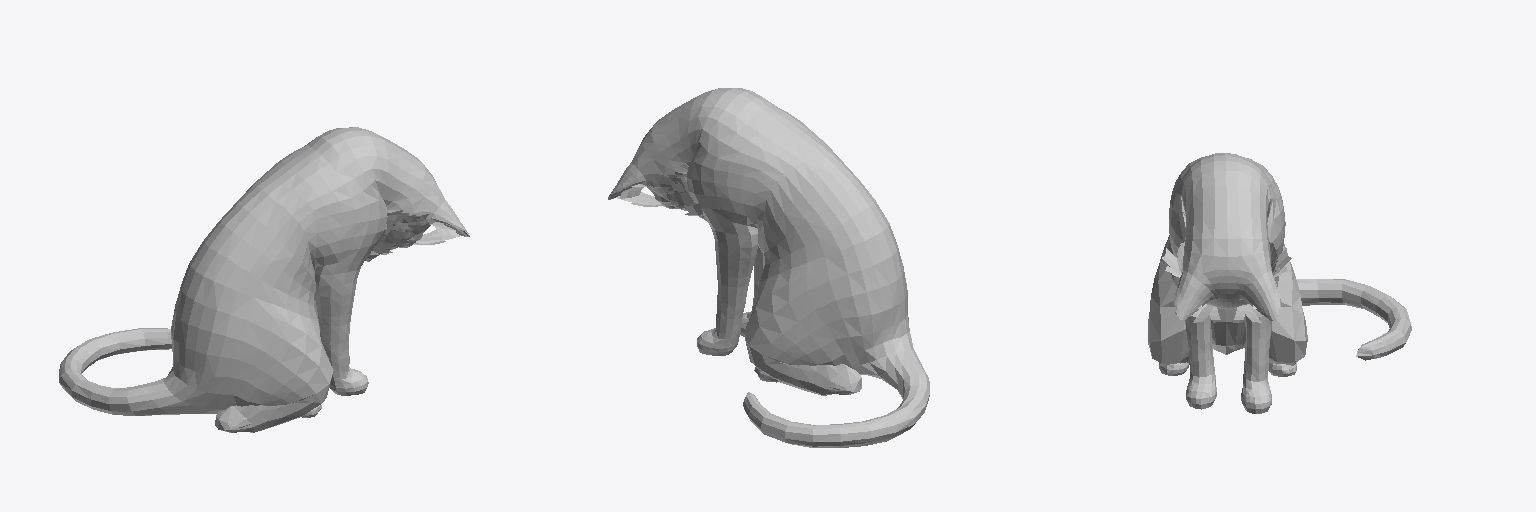
The model's file is cat.obj.
3 views of the same model, side by side, from view 1: azimuth 30°, elevation 25°; view 2: azimuth 150°, elevation 25°; view 3: azimuth 270°, elevation 25° (orthographic).
Visible parts, largest first — view 1: Object_7_sk_player_cat_lod0_Material_#81_0, Object_9_sk_player_cat_lod0_Material_#93_0; view 2: Object_7_sk_player_cat_lod0_Material_#81_0, Object_9_sk_player_cat_lod0_Material_#93_0; view 3: Object_7_sk_player_cat_lod0_Material_#81_0, Object_9_sk_player_cat_lod0_Material_#93_0.
Part boxes in pixels (left/top/right/bottom): Object_7_sk_player_cat_lod0_Material_#81_0: left=59, top=127, right=469, bottom=432; Object_9_sk_player_cat_lod0_Material_#93_0: left=370, top=210, right=460, bottom=254; Object_7_sk_player_cat_lod0_Material_#81_0: left=608, top=88, right=929, bottom=447; Object_9_sk_player_cat_lod0_Material_#93_0: left=616, top=172, right=702, bottom=215; Object_7_sk_player_cat_lod0_Material_#81_0: left=1148, top=153, right=1411, bottom=413; Object_9_sk_player_cat_lod0_Material_#93_0: left=1162, top=242, right=1291, bottom=322.
Bounding box in the file's own units: 21.98 × 16.25 × 15.18.